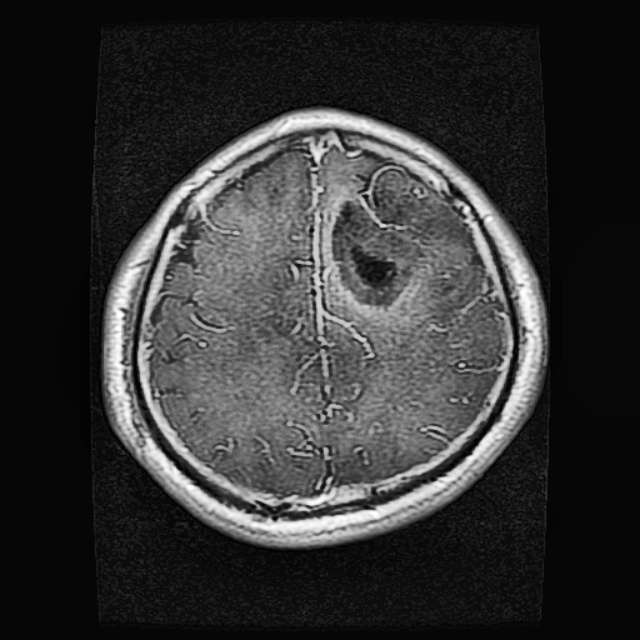Glioma: (332, 163, 465, 309)
